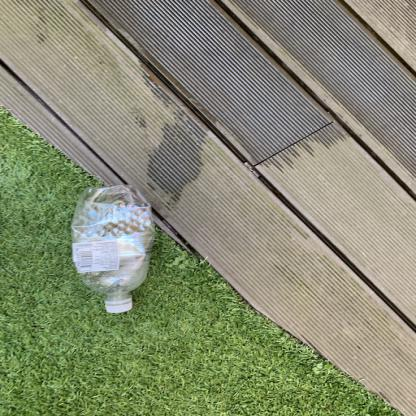plastic-bottles: (76, 174, 155, 313)
